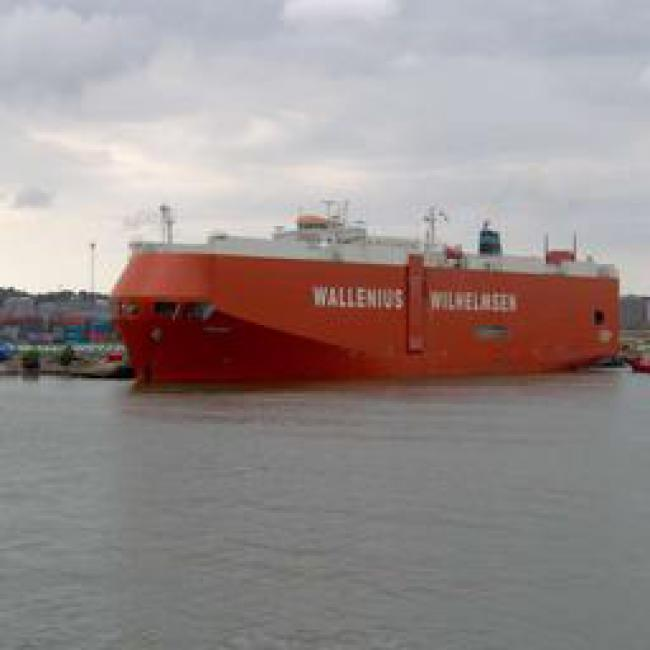Ship: (106, 205, 632, 383)
